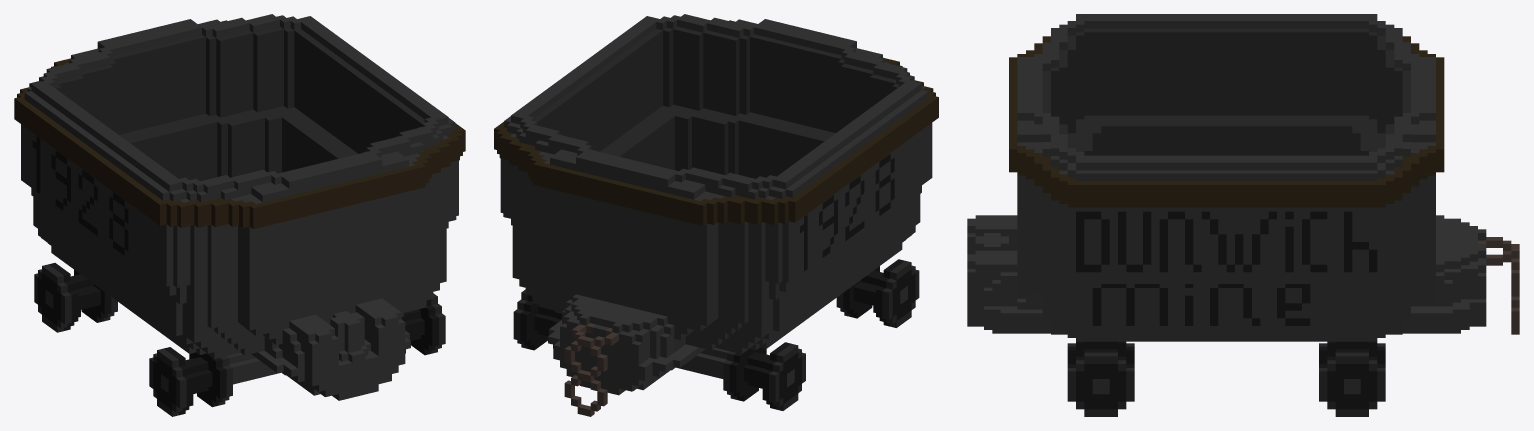
The model's file is trolley 2.obj.
3 renders of one model, left to right at view 1: azimuth 30°, elevation 25°; view 2: azimuth 150°, elevation 25°; view 3: azimuth 270°, elevation 25°, orthographic. The views are drawn at different scales.
Size of the model in its own units: 4.6 by 3.4 by 6.6.
Materials: 1 (1 with a texture image).
